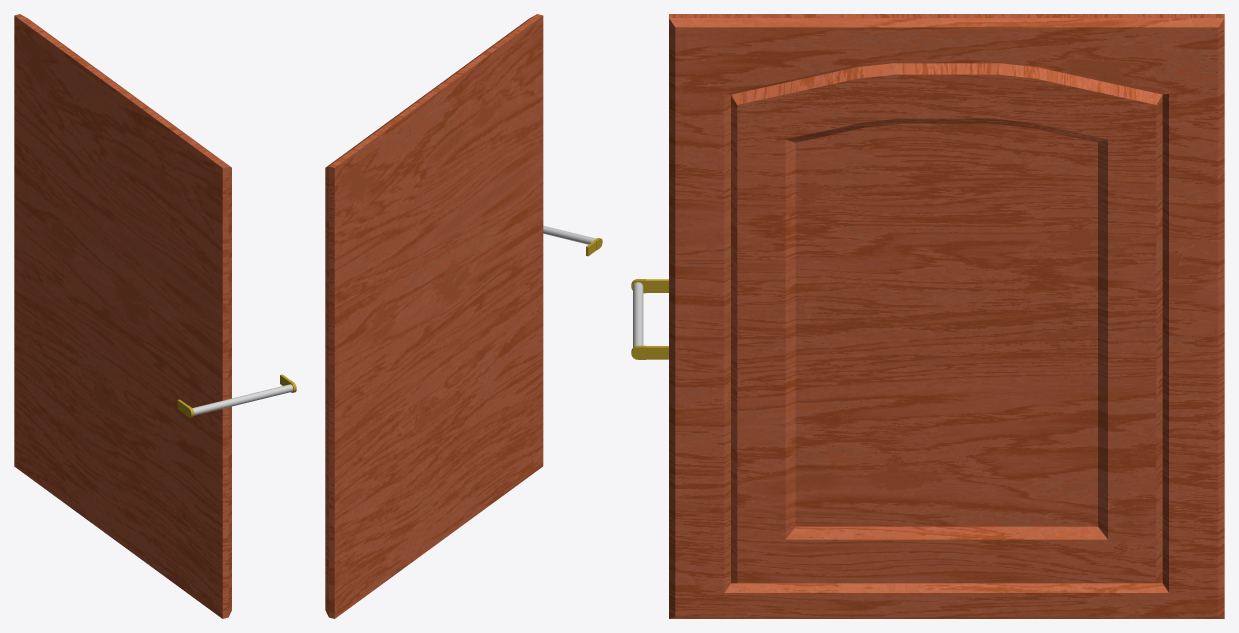
The model's file is Cabinet_d1f6e623.obj.
3 views of the same model, side by side, from view 1: azimuth 30°, elevation 25°; view 2: azimuth 150°, elevation 25°; view 3: azimuth 270°, elevation 25° (orthographic). The views are drawn at different scales.
Visible parts, largest first — view 1: Mesh_01_71e2ce93, handle_2_178mm_01_0e6d395b; view 2: Mesh_01_71e2ce93, handle_2_178mm_01_0e6d395b; view 3: Mesh_01_71e2ce93, handle_2_178mm_01_0e6d395b.
Part boxes in pixels (x1=…): Mesh_01_71e2ce93: x1=14, y1=14, x2=231, y2=618; handle_2_178mm_01_0e6d395b: x1=177, y1=374, x2=296, y2=417; Mesh_01_71e2ce93: x1=325, y1=14, x2=543, y2=618; handle_2_178mm_01_0e6d395b: x1=543, y1=225, x2=602, y2=256; Mesh_01_71e2ce93: x1=669, y1=14, x2=1224, y2=618; handle_2_178mm_01_0e6d395b: x1=631, y1=279, x2=668, y2=359.
Size of the model in its own units: 0.178 by 0.728 by 0.6513.
